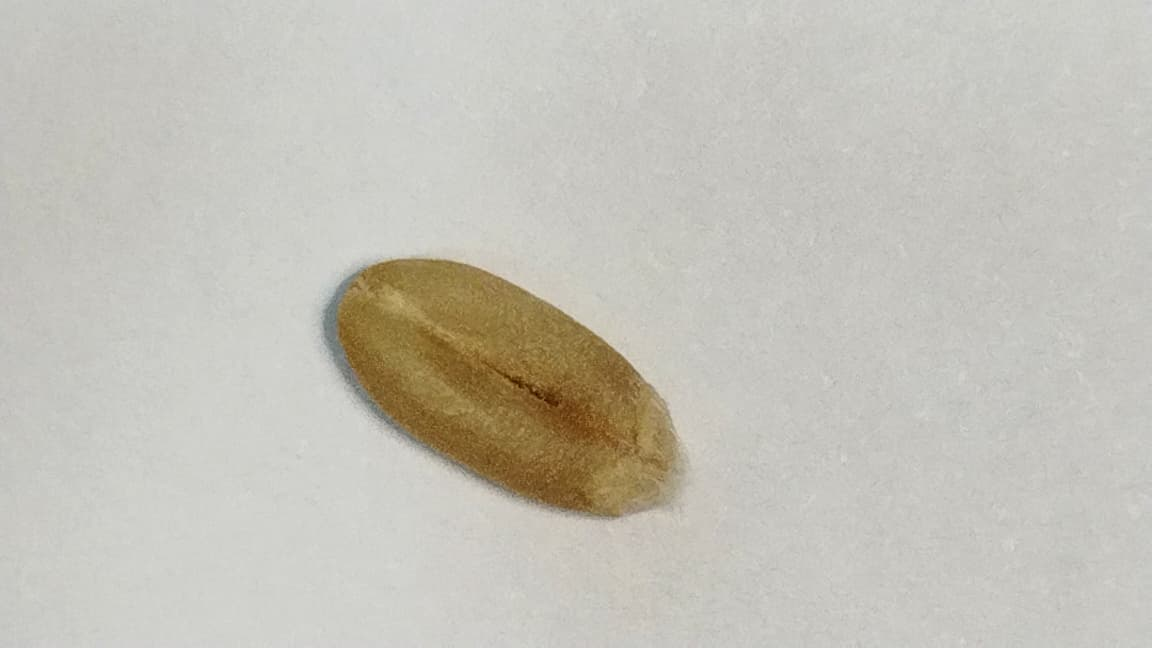healthy: (326, 255, 684, 516)
